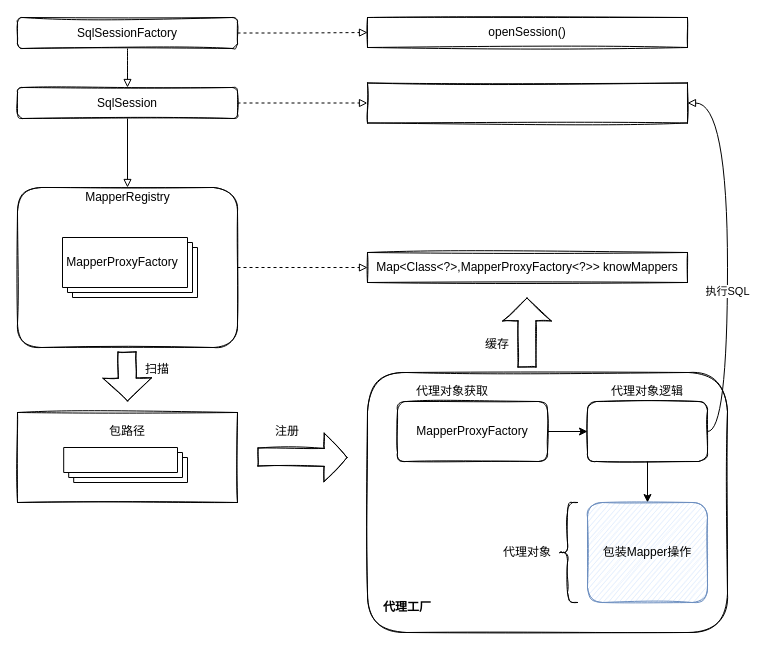
This 766x650 diagram has some shape labels left out. Here are the shapes that lost their labels. From the top down, the centre of each, then its label:
At (x=527, y=102): "< T > T selectOne ( String statement ) < T > T getMapper ( Class<T> type )".
At (x=647, y=431): "MapperProxy".
At (x=125, y=464): "IXxxDao.class".
